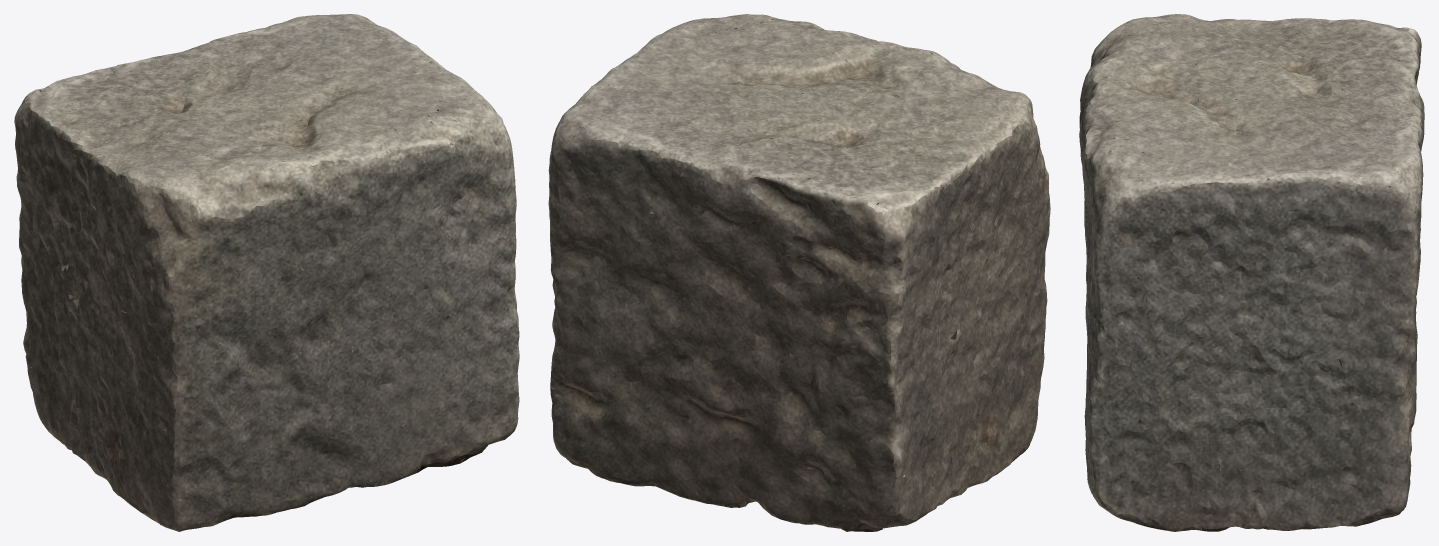
File: 04-aged-masonry.glb
The picture shows the model from 3 angles, left to right: view 1: azimuth 30°, elevation 25°; view 2: azimuth 150°, elevation 25°; view 3: azimuth 270°, elevation 25°; orthographic projection. The views are drawn at different scales.
Visible parts, largest first — view 1: geometry_0; view 2: geometry_0; view 3: geometry_0.
Boxes of the visible parts, x1,y1,x2,y2 form: geometry_0: [14, 14, 519, 531]; geometry_0: [548, 14, 1050, 531]; geometry_0: [1079, 14, 1424, 531].
Bounding box in the file's own units: 0.9973 × 0.9418 × 0.8221.
1 material, 1 textured.
